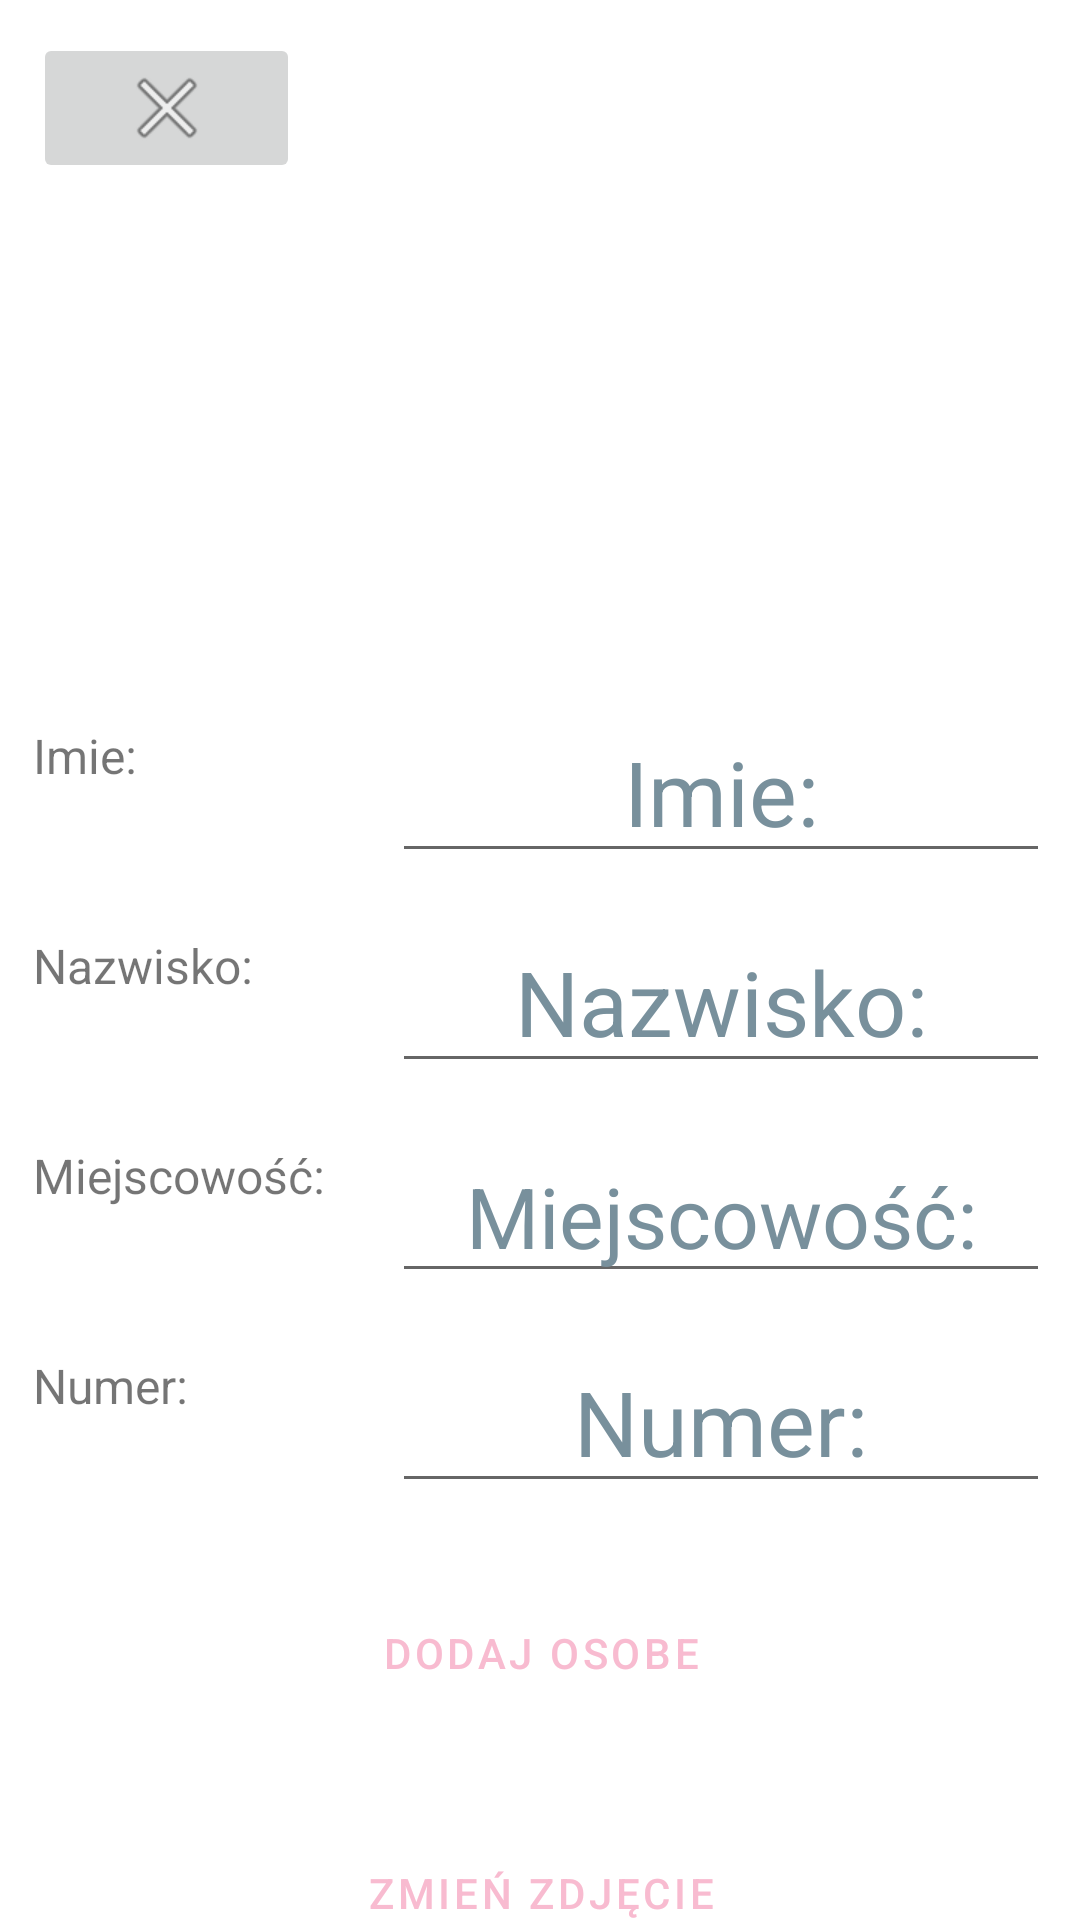

Where to tap for icons on this 1080×1920 app screen, as point (x, y):
close clear cancel: point (166, 108)
